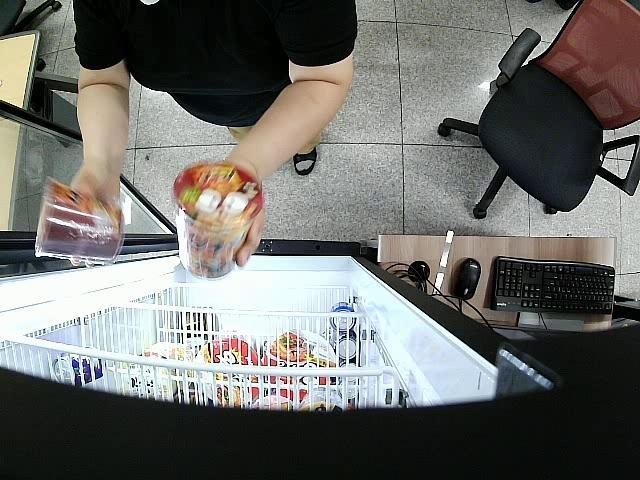06_nuguri_S: (170, 156, 264, 280), (32, 176, 124, 269)
